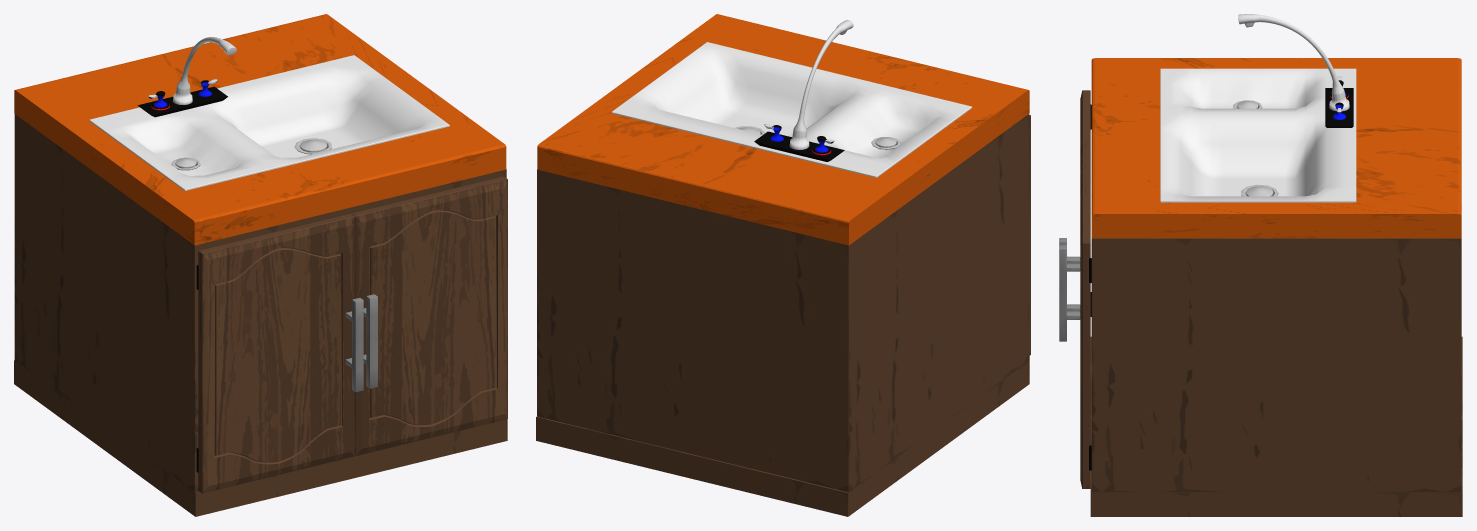
File: sink.fbx
3 views of the same model, side by side, from view 1: azimuth 30°, elevation 25°; view 2: azimuth 150°, elevation 25°; view 3: azimuth 270°, elevation 25° (orthographic). The views are drawn at different scales.
Visible parts, largest first — view 1: Sink - Cab - shell, cab - door left.002, cab - door right.001, faucet; view 2: Sink - Cab - shell, faucet; view 3: Sink - Cab - shell, cab - door right.001, faucet, cab - door left.002.
Boxes of the visible parts, x1=… form: Sink - Cab - shell: x1=14, y1=14, x2=507, y2=516; cab - door left.002: x1=198, y1=214, x2=363, y2=493; cab - door right.001: x1=352, y1=176, x2=507, y2=456; faucet: x1=173, y1=37, x2=236, y2=104; Sink - Cab - shell: x1=536, y1=14, x2=1029, y2=516; faucet: x1=789, y1=20, x2=853, y2=149; Sink - Cab - shell: x1=1089, y1=58, x2=1462, y2=516; cab - door right.001: x1=1059, y1=166, x2=1090, y2=488; faucet: x1=1238, y1=14, x2=1349, y2=111; cab - door left.002: x1=1059, y1=90, x2=1090, y2=311.
Size of the model in its own units: 10445 by 11402 by 12495.
